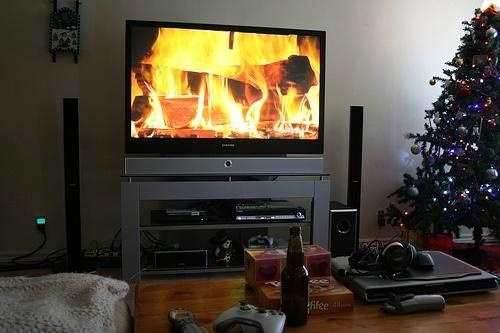bottle: (281, 227, 311, 330)
tvmonitor: (122, 19, 327, 176)
